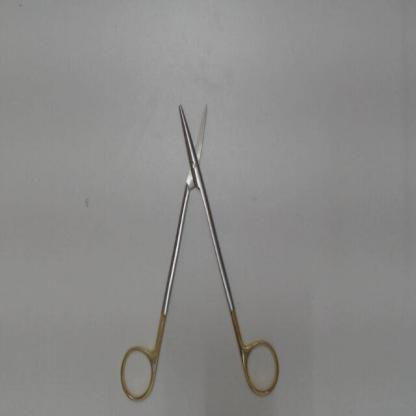7 Metzenbaum Scissors: (117, 96, 285, 408)
